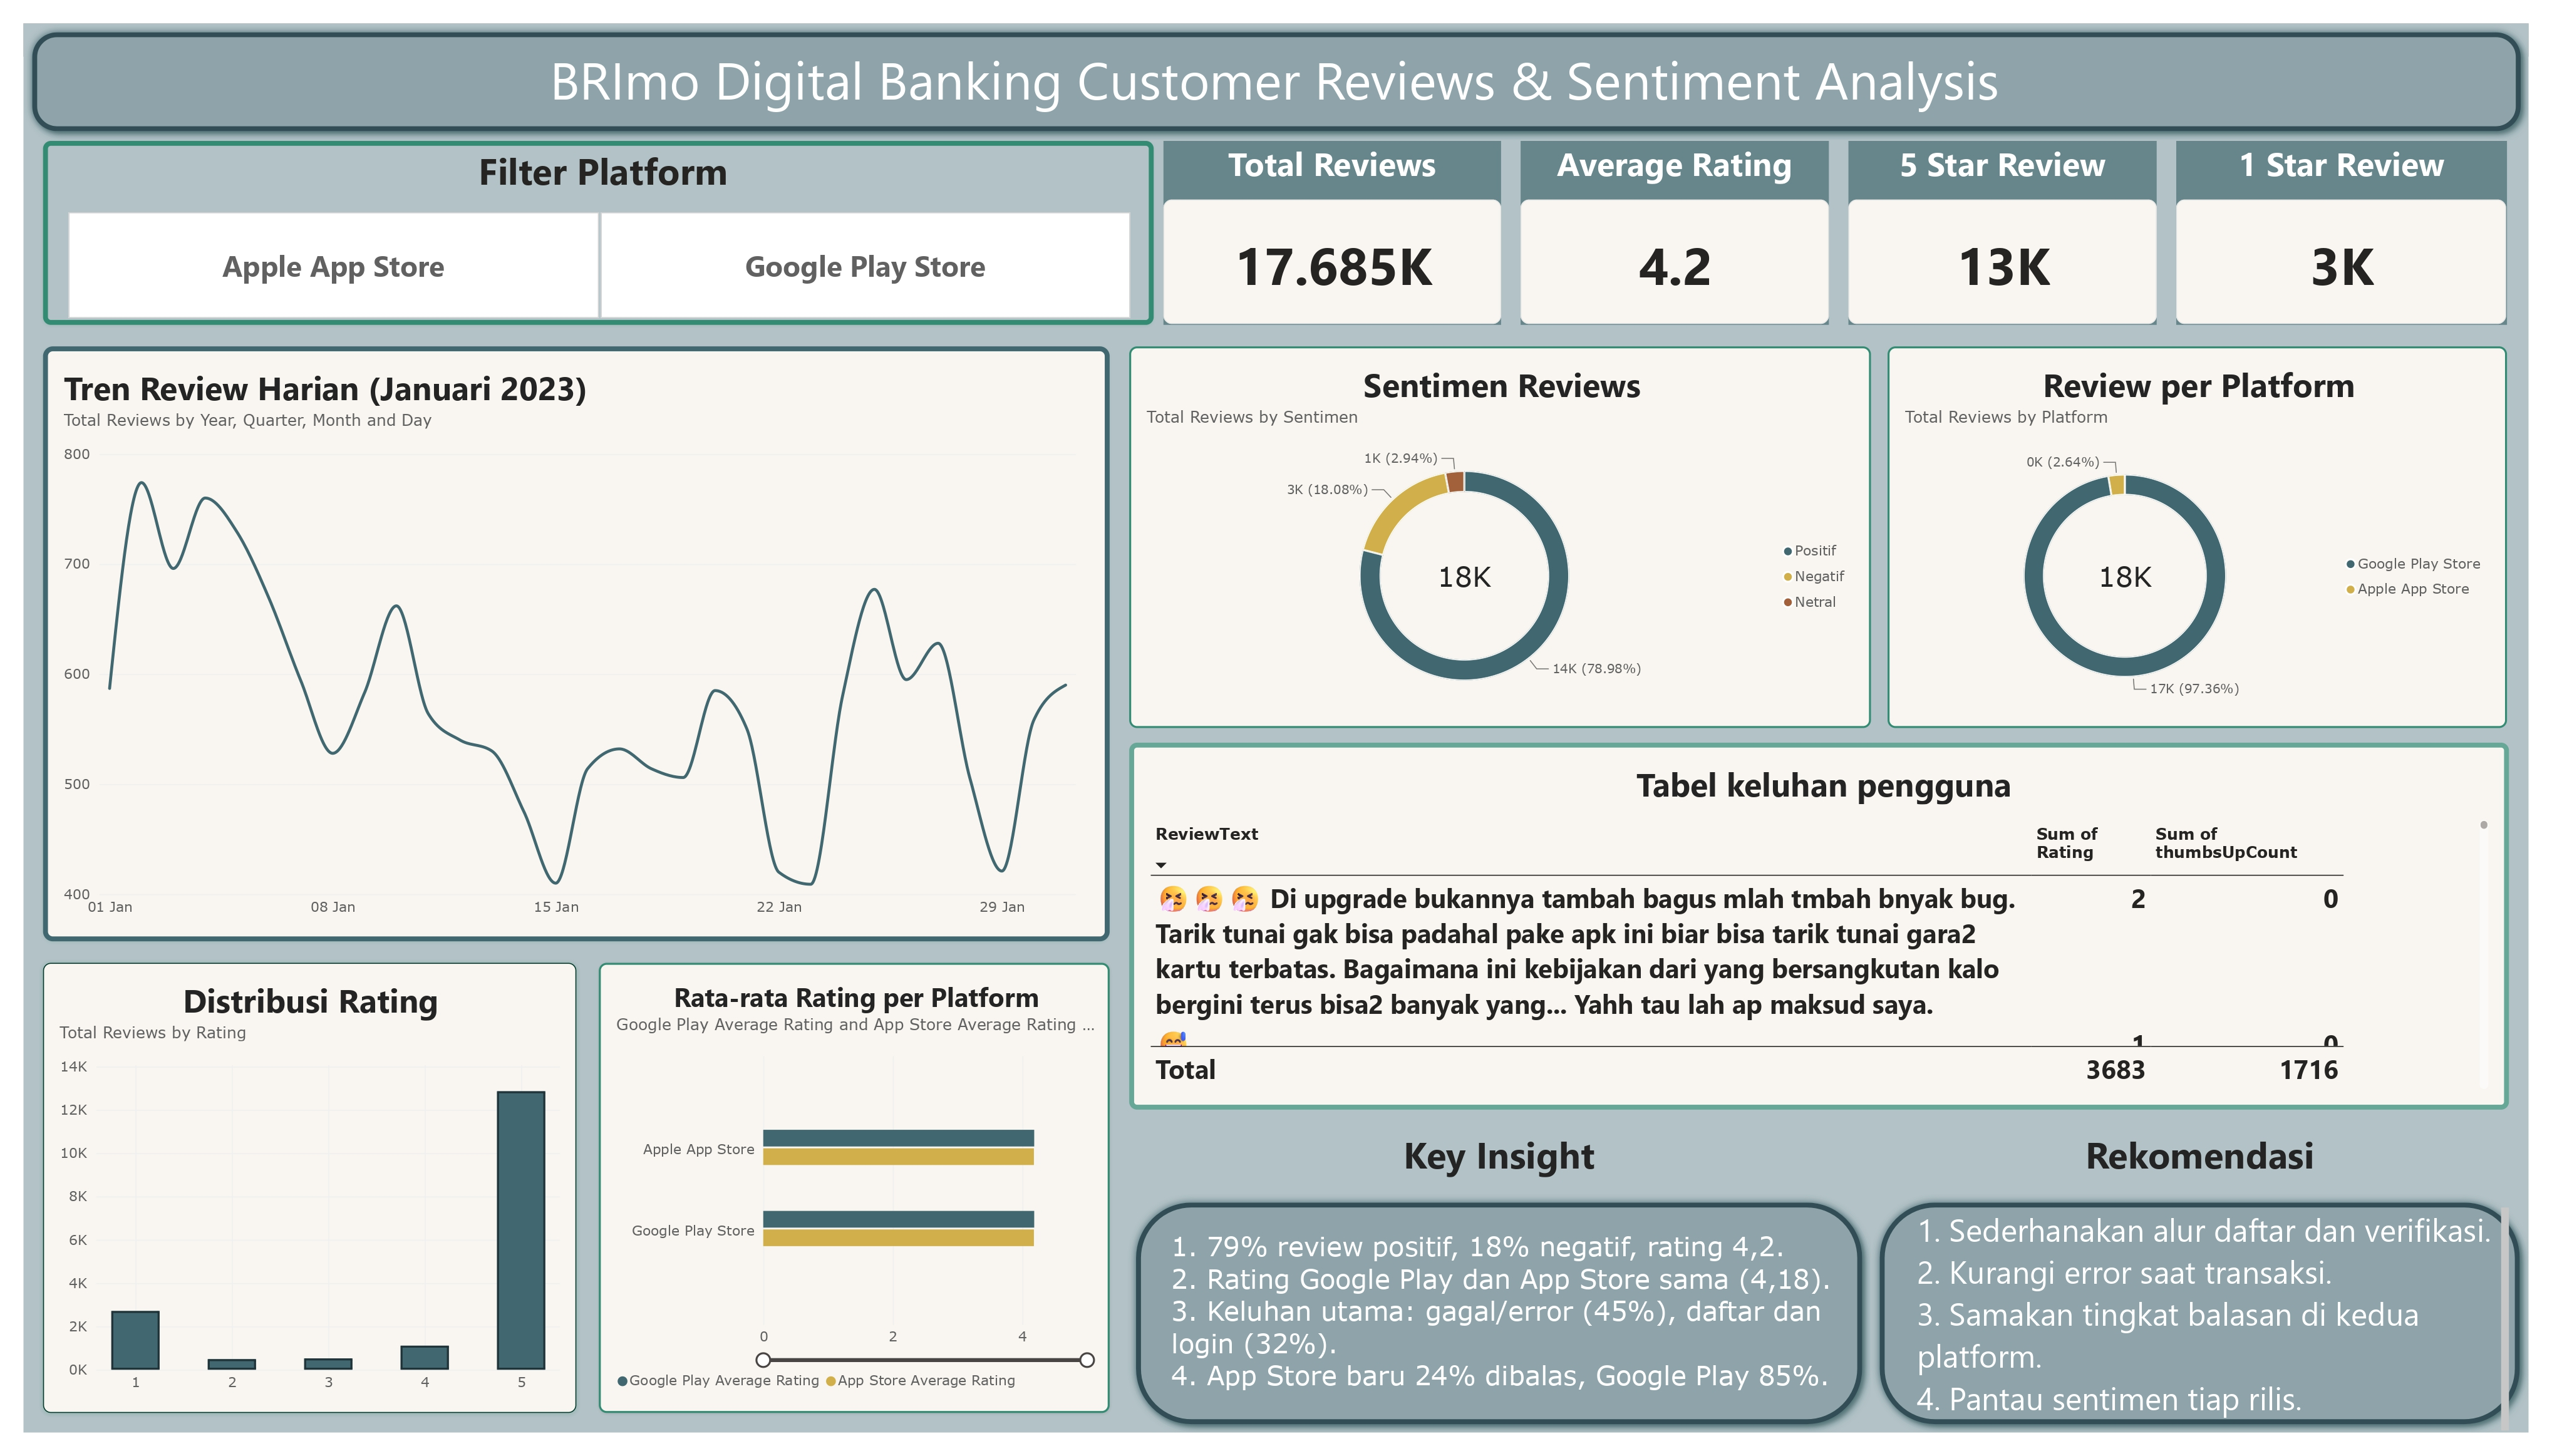

The dashboard page shown, as its layout file describes it:
{"tool":"powerbi","page":{"name":"Page 1","canvas":[2560,1440],"ordinal":0},"visuals":[{"type":"cardVisual","title":"Total Reviews","fields":{"Data":["BRImo Reviews.Total Reviews"]},"box":[1165,120,345,187.5],"z":0},{"type":"shape","title":"BRI''s BRImo Digital Banking Application Reviews","box":[0,0,2560.6,119.4],"z":1},{"type":"textbox","box":[318.3,19.9,1920.4,76.2],"z":2},{"type":"cardVisual","title":"Average Rating","fields":{"Data":["BRImo Reviews.Average Rating"]},"box":[1530,120,315,187.5],"z":3},{"type":"cardVisual","title":"5 Star Review","fields":{"Data":["BRImo Reviews.5 Star Reviews"]},"box":[1865,120,315,187.5],"z":4},{"type":"cardVisual","title":"1 Star Review","fields":{"Data":["BRImo Reviews.1 Star Reviews"]},"box":[2200,120,337.5,187.5],"z":5},{"type":"clusteredColumnChart","title":"Distribusi Rating","fields":{"Category":["BRImo Reviews.Rating"],"Y":["BRImo Reviews.Total Reviews"]},"box":[20,960,545,460],"z":6},{"type":"clusteredBarChart","title":"Rata-rata Rating per Platform","fields":{"Category":["BRImo Reviews.Platform"],"Y":["BRImo Reviews.Google Play Average Rating","BRImo Reviews.App Store Average Rating"]},"box":[587.5,960,522.5,460],"z":7},{"type":"donutChart","title":"Review per Platform","fields":{"Category":["BRImo Reviews.Platform"],"Y":["BRImo Reviews.Total Reviews"]},"box":[1905,330,632.5,390],"z":8},{"type":"donutChart","title":"Sentimen Reviews","fields":{"Category":["BRImo Reviews.Sentimen"],"Y":["BRImo Reviews.Total Reviews"]},"box":[1130,330,757.5,390],"z":9},{"type":"lineChart","title":"Tren Review Harian (Januari 2023)","fields":{"Category":["BRImo Reviews.ReviewDate.Variation.Date Hierarchy.Year","BRImo Reviews.ReviewDate.Variation.Date Hierarchy.Quarter","BRImo Reviews.ReviewDate.Variation.Date Hierarchy.Month","BRImo Reviews.ReviewDate.Variation.Date Hierarchy.Day"],"Y":["BRImo Reviews.Total Reviews"]},"box":[20,330,1090,607.5],"z":10},{"type":"slicer","title":"Filter Platform","fields":{"Values":["BRImo Reviews.Platform"]},"box":[20,120,1135,187.5],"z":11},{"type":"tableEx","title":"Tabel keluhan pengguna","fields":{"Values":["BRImo Reviews.ReviewText","Sum(BRImo Reviews.Rating)","Sum(BRImo Reviews.thumbsUpCount)"]},"box":[1130,735,1410,375],"z":12},{"type":"shape","title":"Key Insight","box":[1127.5,1130,760,310],"z":13},{"type":"textbox","box":[1172.5,1232.5,732.5,207.5],"z":14},{"type":"shape","title":"Rekomendasi","box":[1887.5,1130,672.5,310],"z":15},{"type":"textbox","box":[1935,1210,605,230],"z":16}]}

Visuals, with their boxes in screenshot pixels (x1, y1, x2, y2):
"Total Reviews" cardVisual: left=1159, top=132, right=1498, bottom=316
"BRI''s BRImo Digital Banking Application Reviews" shape: left=13, top=13, right=2531, bottom=131
textbox: left=326, top=33, right=2214, bottom=108
"Average Rating" cardVisual: left=1517, top=132, right=1827, bottom=316
"5 Star Review" cardVisual: left=1847, top=132, right=2156, bottom=316
"1 Star Review" cardVisual: left=2176, top=132, right=2508, bottom=316
"Distribusi Rating" clusteredColumnChart: left=33, top=957, right=569, bottom=1409
"Rata-rata Rating per Platform" clusteredBarChart: left=591, top=957, right=1105, bottom=1409
"Review per Platform" donutChart: left=1886, top=338, right=2508, bottom=721
"Sentimen Reviews" donutChart: left=1124, top=338, right=1869, bottom=721
"Tren Review Harian (Januari 2023)" lineChart: left=33, top=338, right=1105, bottom=935
"Filter Platform" slicer: left=33, top=132, right=1149, bottom=316
"Tabel keluhan pengguna" tableEx: left=1124, top=736, right=2510, bottom=1105
"Key Insight" shape: left=1122, top=1124, right=1869, bottom=1429
textbox: left=1166, top=1225, right=1886, bottom=1429
"Rekomendasi" shape: left=1869, top=1124, right=2530, bottom=1429
textbox: left=1916, top=1203, right=2510, bottom=1429
